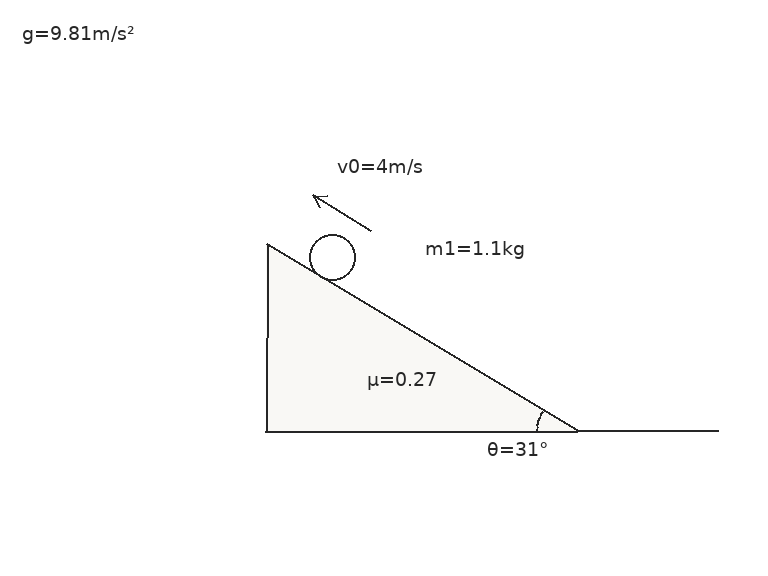ball: (307, 232, 357, 282)
ramp: (265, 243, 579, 433)
